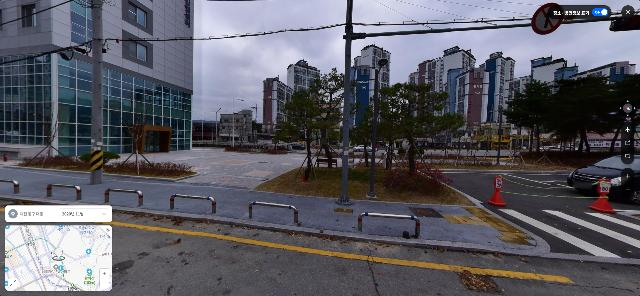other: (380, 81, 466, 177), (307, 68, 357, 168), (555, 75, 616, 154), (284, 86, 333, 180), (357, 84, 408, 171), (537, 79, 590, 153), (504, 80, 556, 152), (121, 88, 154, 175), (35, 96, 68, 167)
